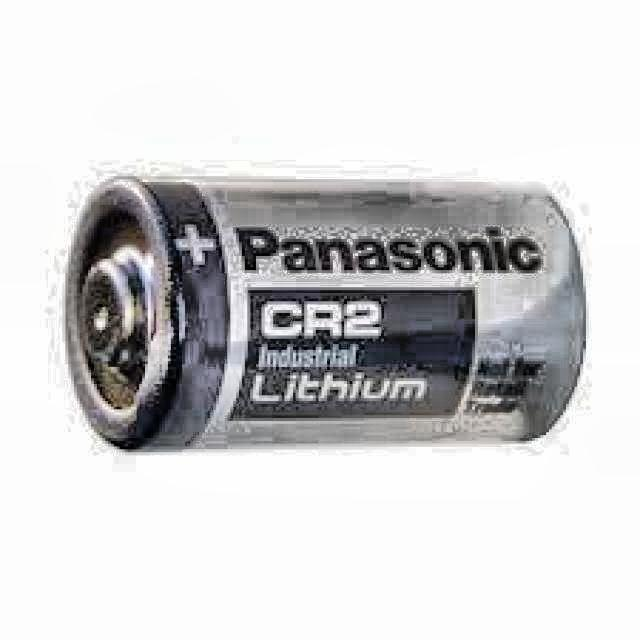battery: (64, 173, 586, 453)
